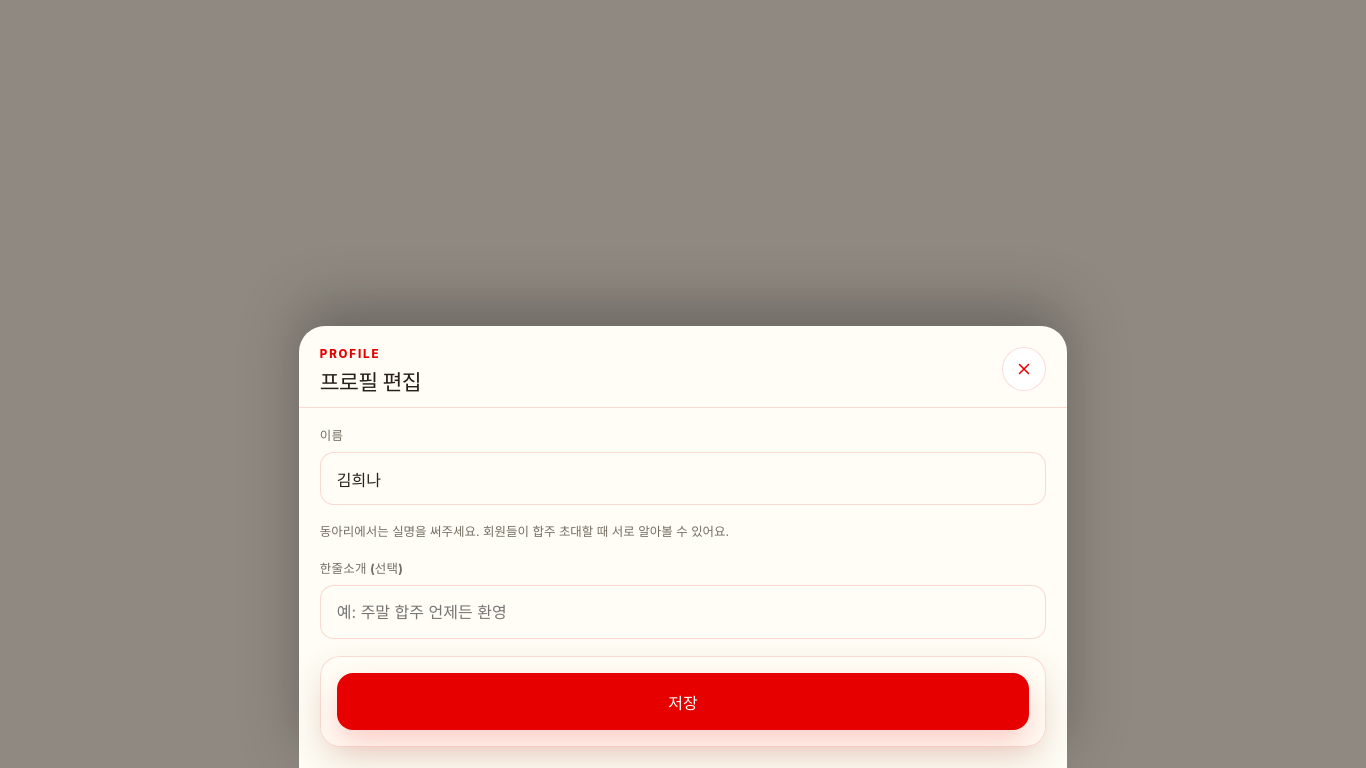
Test: ProfileSheet › 검증·저장 오류를 알려주고 입력하면 지운다
Click the button "저장": (683, 702) x1=337 y1=673 x2=1029 y2=730
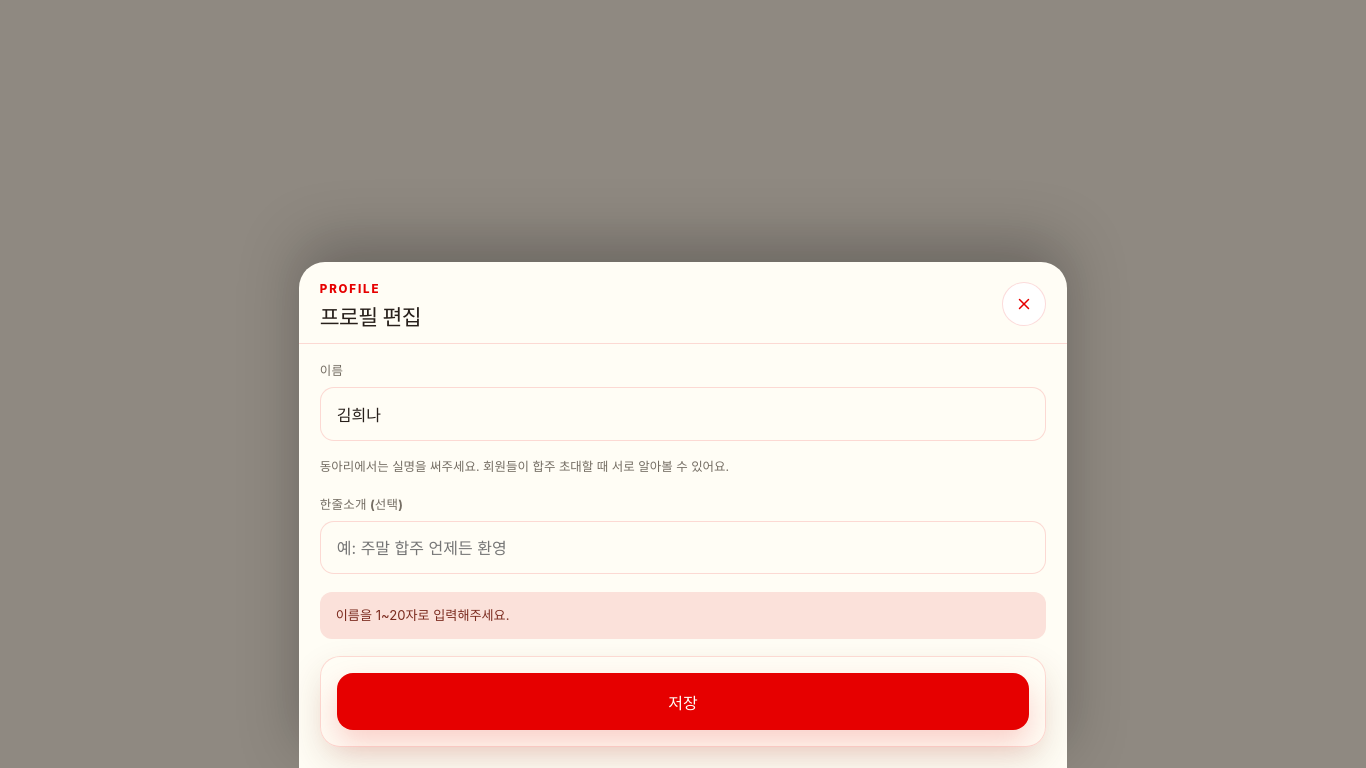
Expected: the message reads "이름을 1~20자로 입력해주세요.", x1=336 y1=606 x2=510 y2=622
Click the button "저장": (683, 702) x1=337 y1=673 x2=1029 y2=730
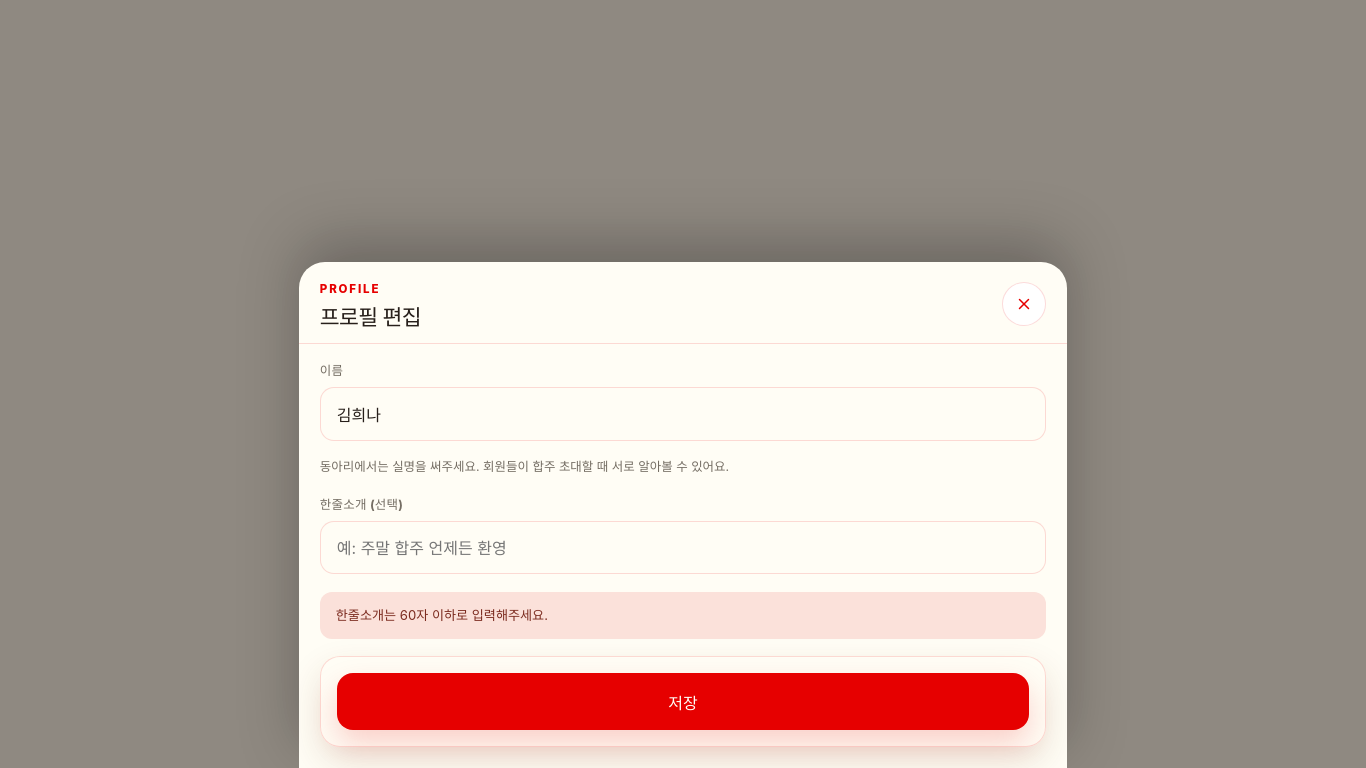
Expected: the message reads "한줄소개는 60자 이하로 입력해주세요.", x1=336 y1=606 x2=548 y2=622
Click the button "저장": (683, 702) x1=337 y1=673 x2=1029 y2=730
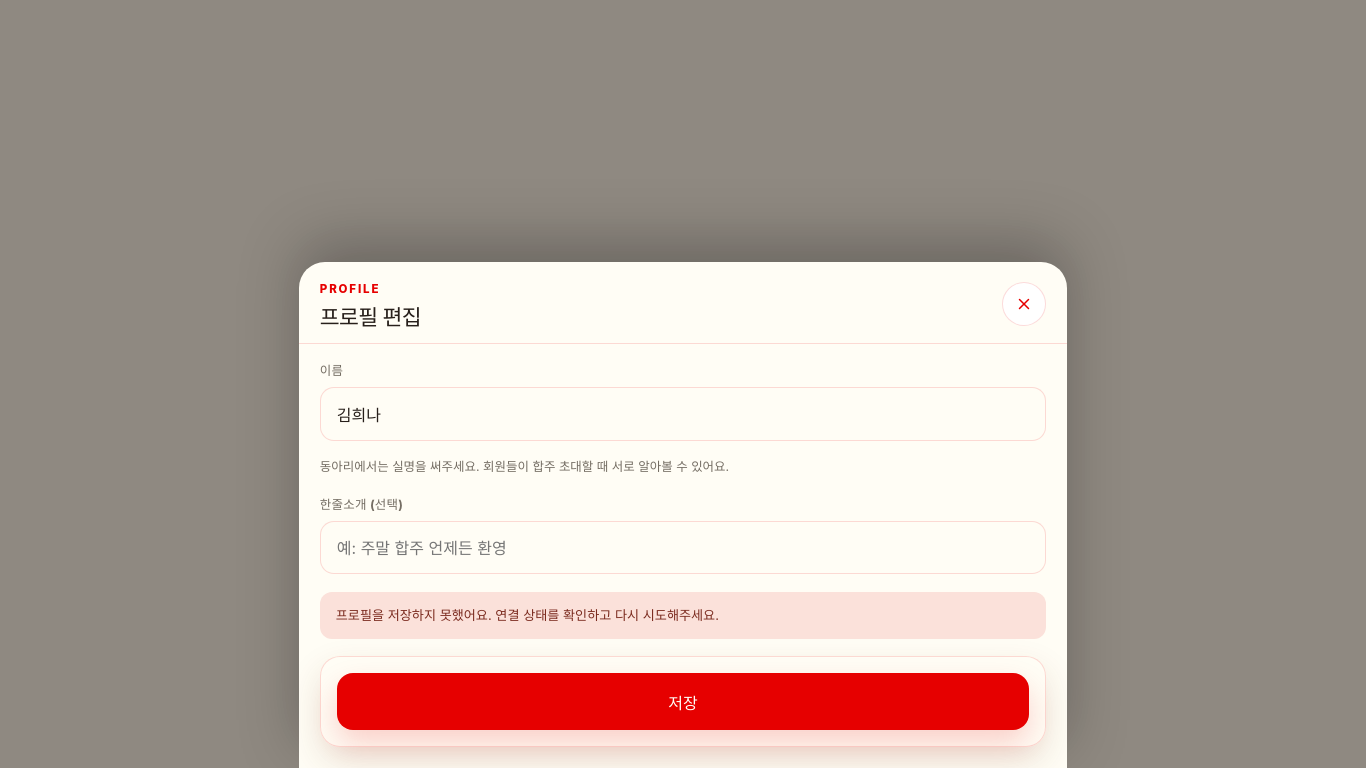
Expected: the message shows "저장하지 못했어요", x1=336 y1=606 x2=719 y2=622
In the field labelled "이름": (683, 414) x1=320 y1=387 x2=1046 y2=441, type "!"
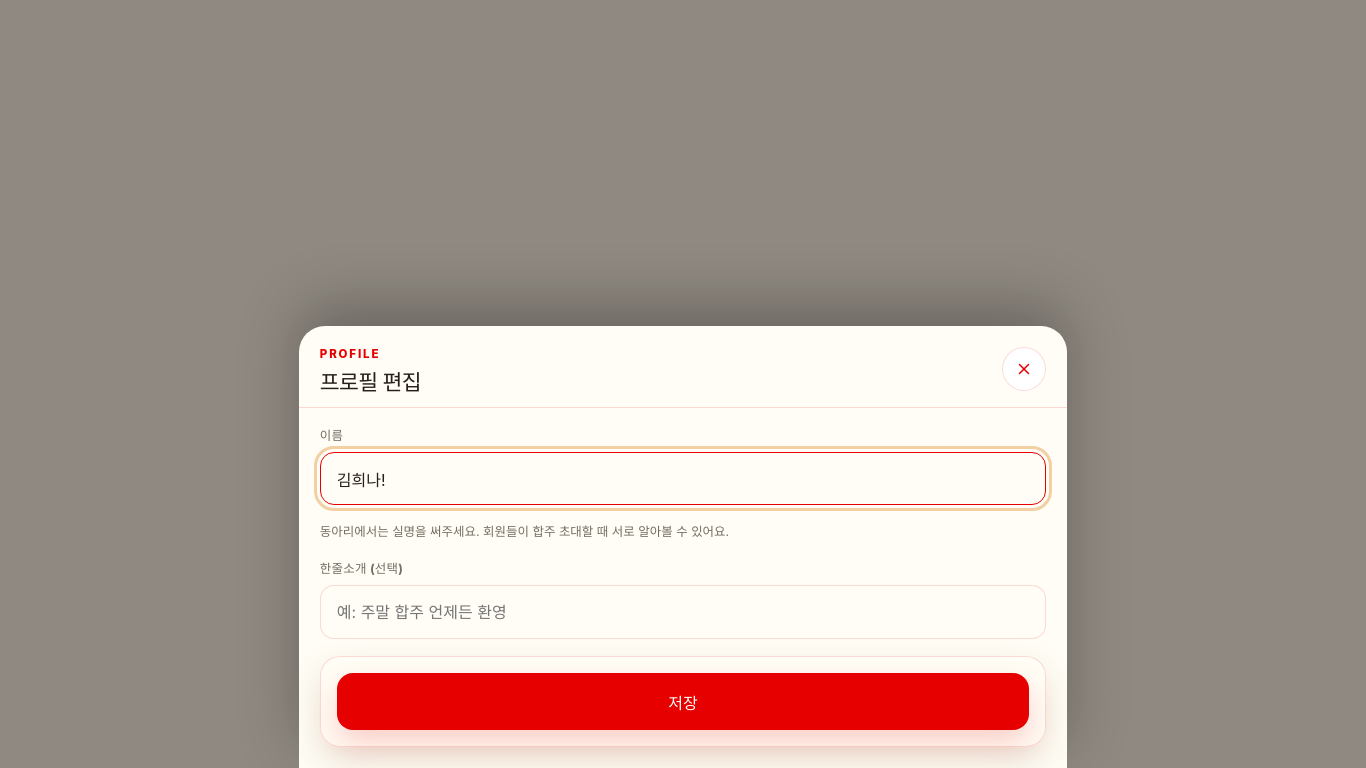
Expected: the message "프로필을 저장하지 못했어요. 연결 상태를 확인하고 다시 시도해주세요." is gone
